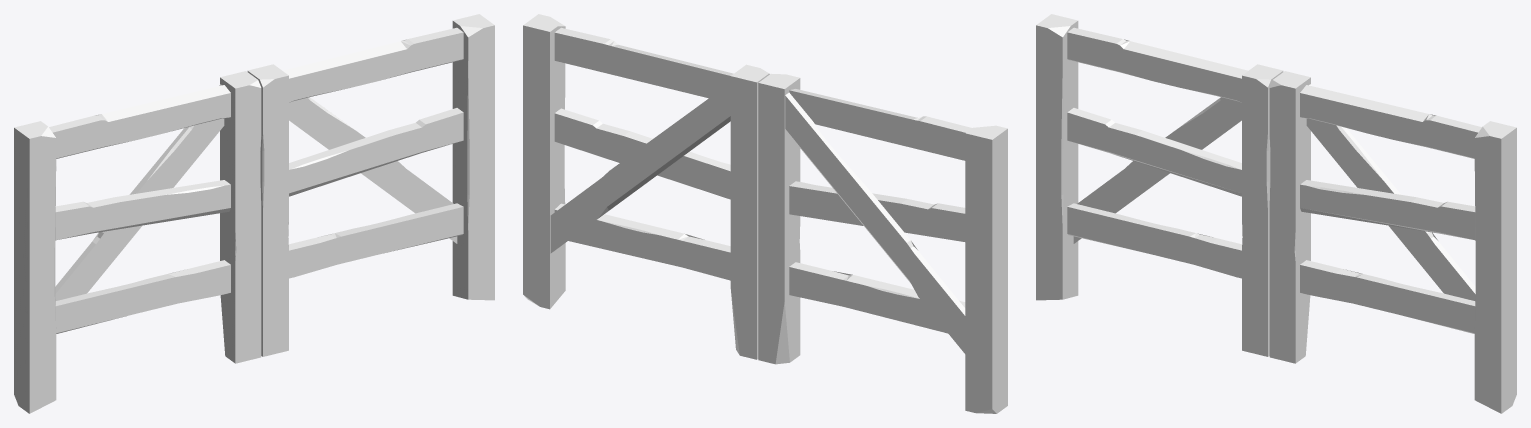
File: Bld_02_Fence_Wood_Gate_Double_Worned_Handle_01.glb
The picture shows the model from 3 angles, left to right: view 1: azimuth 30°, elevation 25°; view 2: azimuth 150°, elevation 25°; view 3: azimuth 330°, elevation 25°; orthographic projection.
Parts seen in each view (by area): view 1: Bld_02_Fence_Wood_Gate_Double_Left_Worned_01, Bld_02_Fence_Wood_Gate_Double_Right_Worned_01; view 2: Bld_02_Fence_Wood_Gate_Double_Left_Worned_01, Bld_02_Fence_Wood_Gate_Double_Right_Worned_01; view 3: Bld_02_Fence_Wood_Gate_Double_Right_Worned_01, Bld_02_Fence_Wood_Gate_Double_Left_Worned_01.
Boxes of the visible parts, x1,y1,x2,y2 form: Bld_02_Fence_Wood_Gate_Double_Left_Worned_01: (14,71,261,413); Bld_02_Fence_Wood_Gate_Double_Right_Worned_01: (247,14,494,356); Bld_02_Fence_Wood_Gate_Double_Left_Worned_01: (758,73,1007,413); Bld_02_Fence_Wood_Gate_Double_Right_Worned_01: (523,14,769,359); Bld_02_Fence_Wood_Gate_Double_Right_Worned_01: (1269,71,1516,413); Bld_02_Fence_Wood_Gate_Double_Left_Worned_01: (1036,14,1283,356).
Size of the model in its own units: 2.44 by 1.38 by 0.1404.
Materials: 1 (1 with a texture image).
